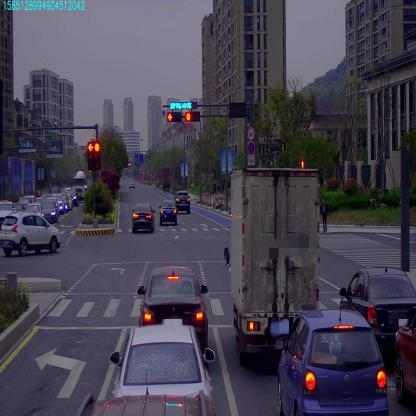traffic-light: (170, 100, 197, 112), (185, 112, 200, 125), (168, 112, 180, 124)
